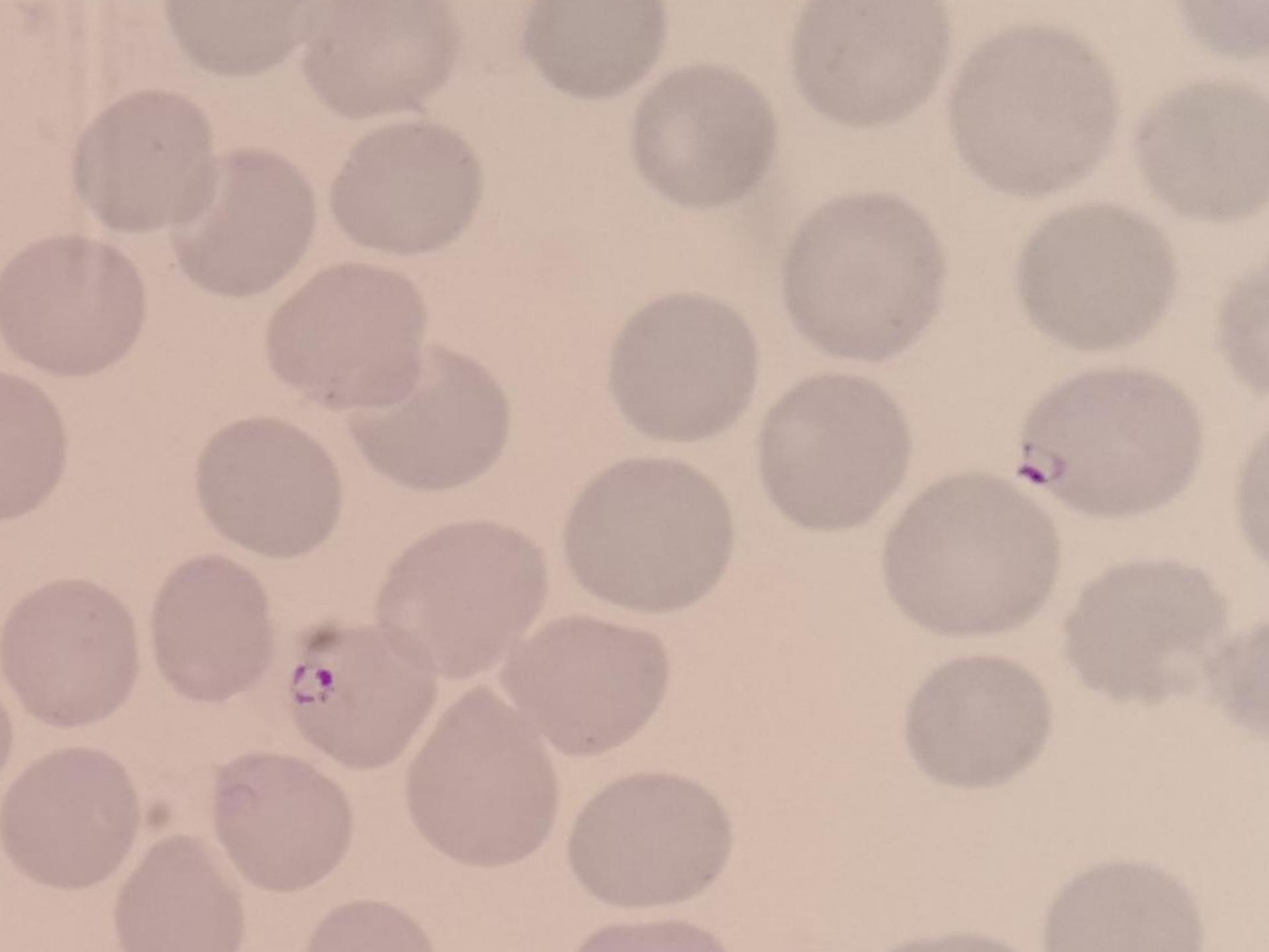Infected: (1021, 368, 1196, 517), (291, 624, 442, 768)
Uninfected: (884, 475, 1057, 634), (374, 523, 546, 682), (402, 694, 557, 868), (949, 28, 1112, 193), (562, 459, 732, 612), (783, 197, 943, 358), (265, 265, 427, 410), (757, 374, 910, 526), (1063, 558, 1222, 702), (352, 349, 511, 492), (1016, 204, 1171, 349), (507, 618, 667, 756), (565, 772, 726, 908), (607, 295, 758, 437), (2, 579, 141, 729), (194, 417, 340, 558), (75, 89, 217, 231), (175, 153, 316, 296), (0, 746, 138, 889), (2, 235, 142, 375), (212, 752, 352, 892), (148, 555, 276, 708), (333, 122, 482, 253), (794, 3, 949, 126), (904, 657, 1048, 789), (1137, 82, 1269, 221), (636, 70, 768, 205), (304, 0, 456, 114), (114, 838, 242, 950), (1043, 861, 1201, 949), (522, 0, 666, 96), (167, 2, 305, 75)
